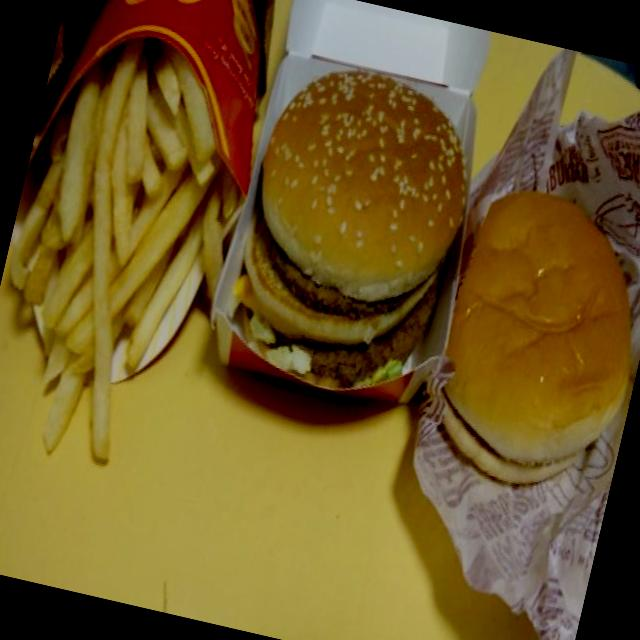French Fries: (0, 10, 270, 422)
Hamburger: (212, 44, 486, 408), (410, 165, 640, 516)
